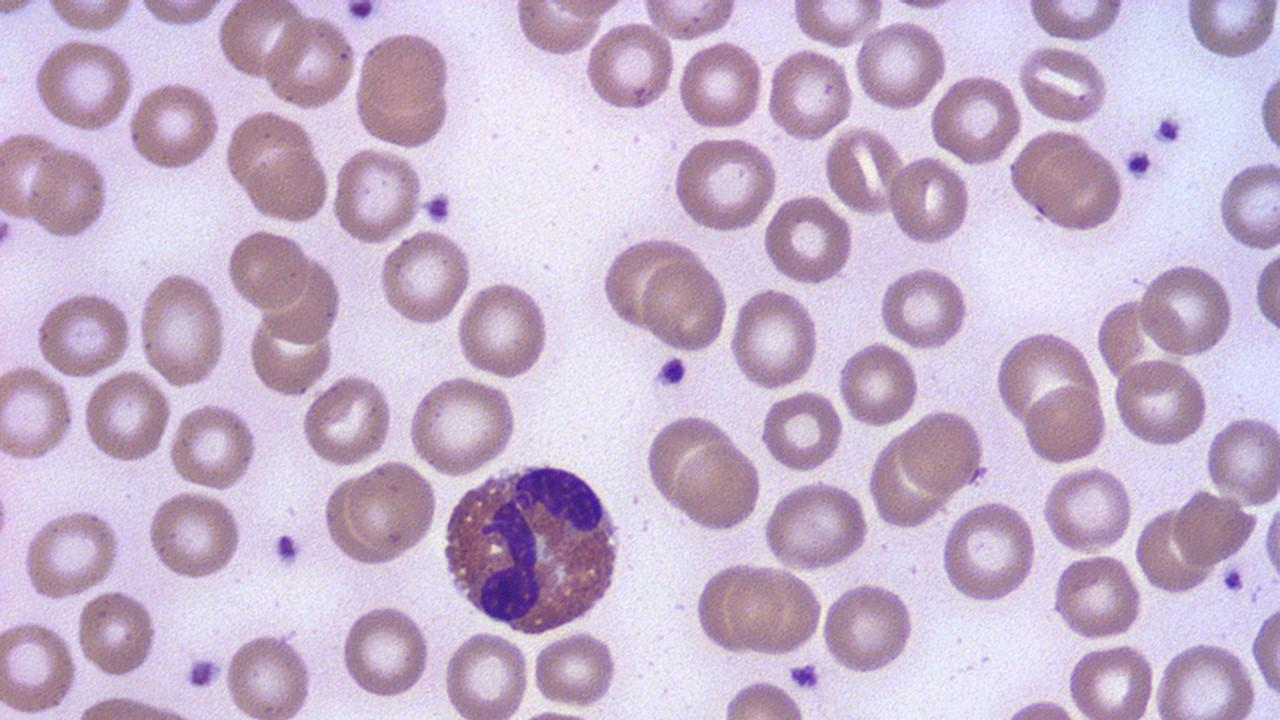Platelets: (654, 353, 691, 390), (784, 658, 823, 690), (1123, 146, 1155, 178), (343, 1, 380, 23), (1221, 565, 1247, 593)
RBC: (405, 374, 521, 479), (134, 270, 228, 390), (992, 328, 1100, 432), (669, 135, 781, 234), (939, 498, 1037, 606), (760, 479, 872, 572), (29, 37, 137, 133), (454, 278, 552, 382), (1135, 261, 1237, 360), (728, 283, 821, 391), (19, 506, 123, 601), (818, 579, 918, 677), (330, 145, 425, 248), (260, 11, 358, 110), (376, 227, 472, 328), (144, 488, 246, 582), (338, 601, 432, 702), (222, 109, 319, 206), (642, 409, 735, 510), (31, 288, 134, 378), (852, 17, 948, 113), (300, 370, 394, 468), (346, 458, 438, 558), (125, 78, 221, 173), (727, 564, 824, 658), (80, 368, 173, 466), (1109, 357, 1209, 448), (602, 238, 697, 333), (764, 45, 856, 143), (1027, 142, 1127, 232), (582, 19, 676, 114), (928, 73, 1024, 166), (761, 192, 855, 286), (220, 626, 316, 718), (1040, 464, 1136, 556), (640, 256, 730, 354), (672, 438, 761, 536), (674, 38, 766, 132), (441, 624, 532, 718), (1048, 552, 1144, 641), (166, 400, 260, 490), (887, 152, 973, 250), (1150, 640, 1260, 716), (74, 586, 160, 682), (29, 142, 112, 241), (878, 263, 972, 350), (0, 614, 80, 716), (824, 122, 908, 219), (356, 30, 454, 111), (693, 558, 772, 658), (1016, 42, 1112, 124), (0, 361, 76, 464), (836, 337, 920, 430), (248, 309, 334, 398), (758, 387, 844, 475), (898, 407, 983, 496), (530, 626, 620, 710), (1064, 638, 1156, 720), (1021, 381, 1109, 466), (1204, 410, 1280, 508), (223, 225, 308, 312), (217, 1, 308, 82), (1134, 503, 1214, 595), (352, 77, 453, 149), (242, 146, 332, 224), (1172, 484, 1254, 566), (1215, 156, 1279, 252), (1183, 2, 1279, 64), (0, 130, 62, 223), (511, 2, 601, 60), (790, 1, 882, 48), (1024, 1, 1126, 42), (640, 1, 738, 41), (1248, 600, 1280, 708), (40, 0, 140, 33), (1252, 62, 1280, 162), (134, 0, 225, 28), (1253, 250, 1279, 337), (1261, 495, 1280, 593)
WBC: (437, 455, 632, 637)
